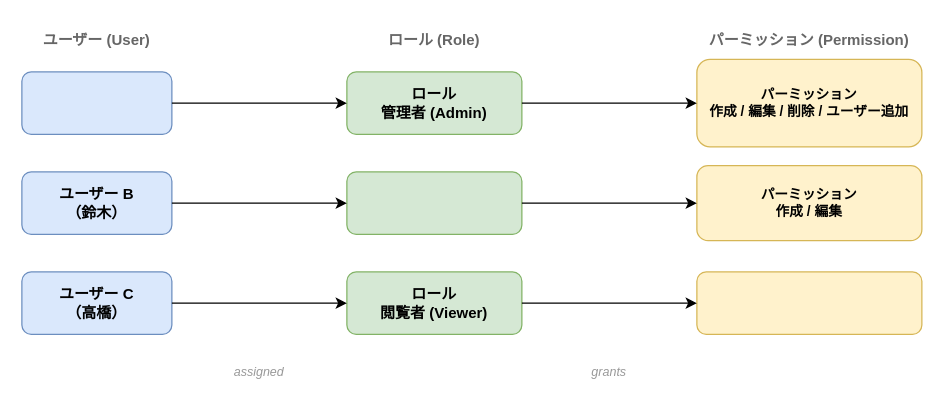
This 944x405 diagram has some shape labels left out. Here are the shapes that lost their labels. From the top down, the centre of each, then its label:
At (96,102): "ユーザー A （佐藤）".
At (434,202): "ロール 編集者 (Editor)".
At (809,302): "パーミッション 閲覧のみ".
